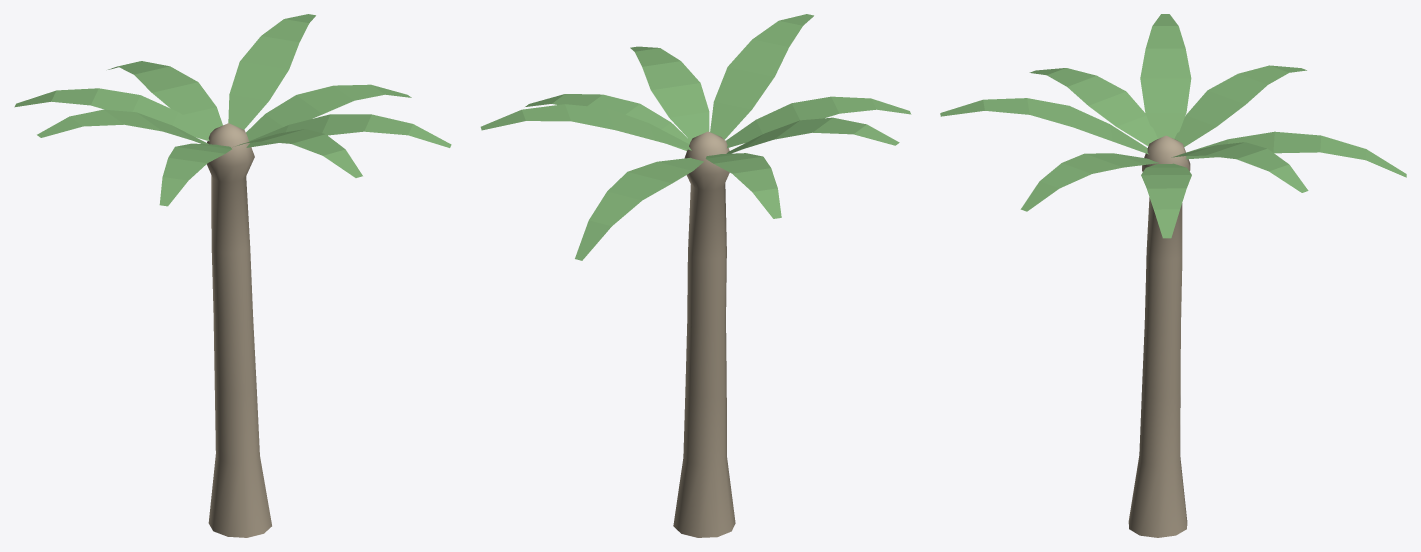
File: palm_canary_lod1.glb
The picture shows the model from 3 angles, left to right: view 1: azimuth 30°, elevation 25°; view 2: azimuth 150°, elevation 25°; view 3: azimuth 270°, elevation 25°; orthographic projection. The views are drawn at different scales.
Parts seen in each view (by area): view 1: palm_canary_lod1; view 2: palm_canary_lod1; view 3: palm_canary_lod1.
Part boxes in pixels (x1,y1,x2,y2): palm_canary_lod1: (14,14,451,537); palm_canary_lod1: (480,14,911,537); palm_canary_lod1: (940,14,1406,537).
Size of the model in its own units: 8.94 by 10.1 by 10.08.
